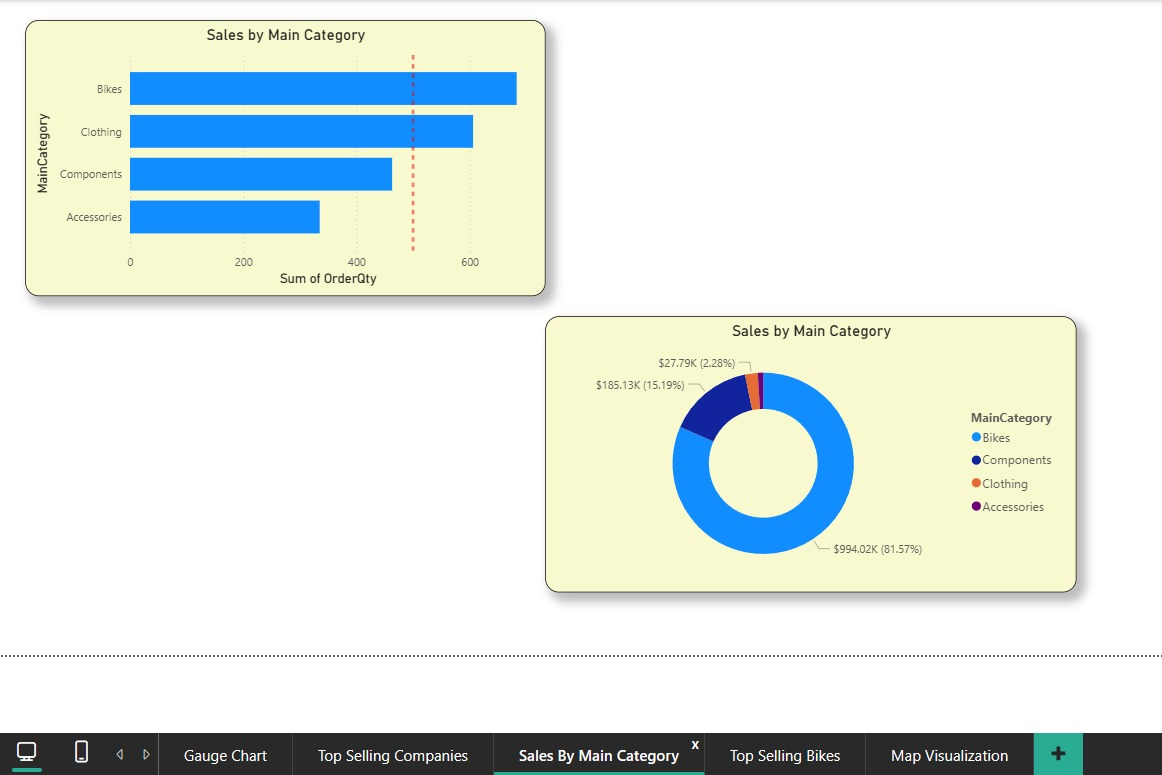

This screenshot's page, from the dashboard's own definition file:
{"tool":"powerbi","page":{"name":"Sales By Main Category","canvas":[1280,720],"ordinal":2},"visuals":[{"type":"barChart","title":"Sales by Main Category","fields":{"Category":["Sales.MainCategory"],"Y":["Sum(Sales.OrderQty)"]},"box":[28.8,22,570.8,303.3],"z":0},{"type":"donutChart","title":"Sales by Main Category","fields":{"Category":["Sales.MainCategory"],"Y":["Sum(Sales.Line Total)"]},"box":[599.7,347.2,583.2,303.3],"z":1}]}

Visuals, with their boxes on the page's 1280x720 design canvas (x1, y1, x2, y2). These are canvas units, not pixel positions in the 1162x775 screenshot, which may show the page scaled, cropped or inside an application window:
"Sales by Main Category" barChart: [x1=29, y1=22, x2=600, y2=325]
"Sales by Main Category" donutChart: [x1=600, y1=347, x2=1183, y2=650]
